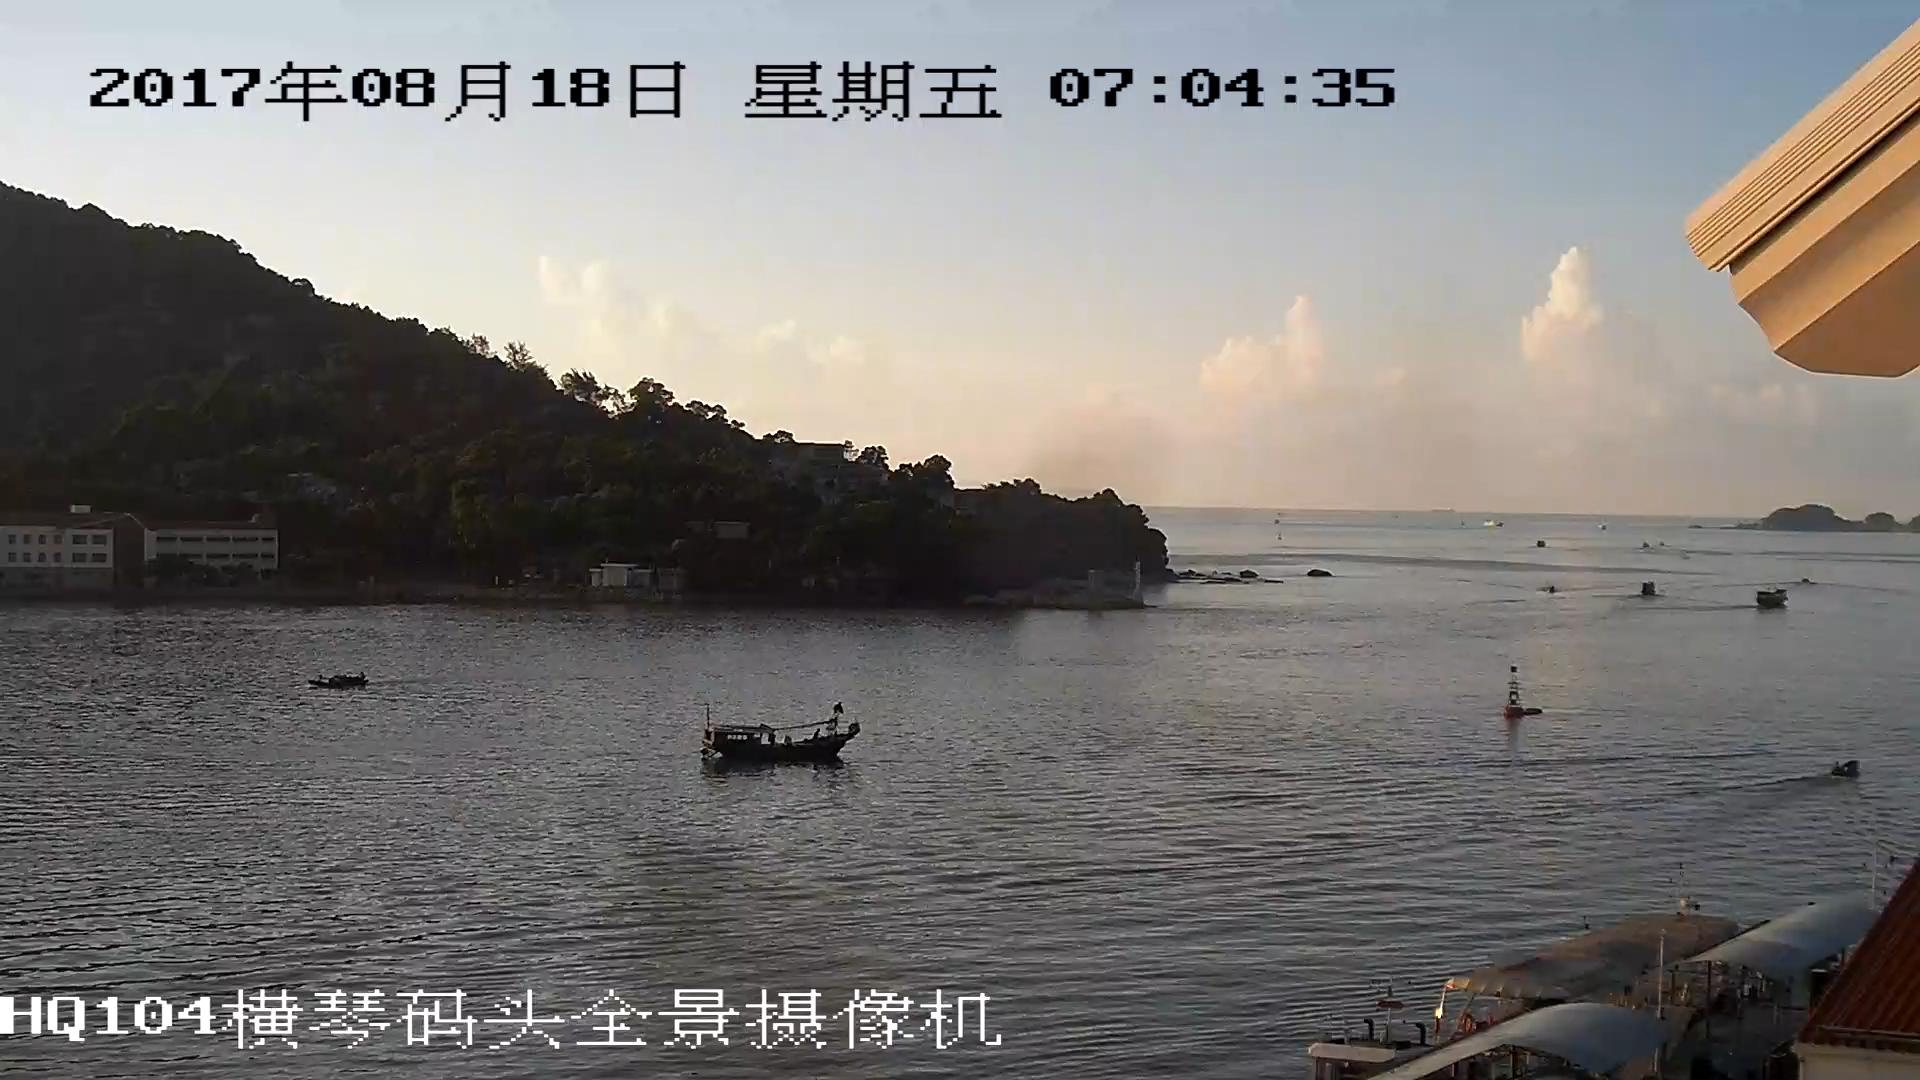fishing boat: (700, 702, 861, 765), (314, 674, 372, 692)
